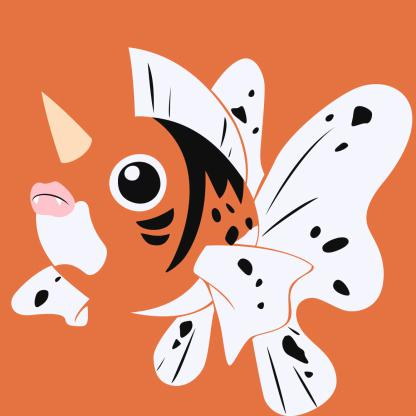Seaking: (29, 27, 400, 415)
